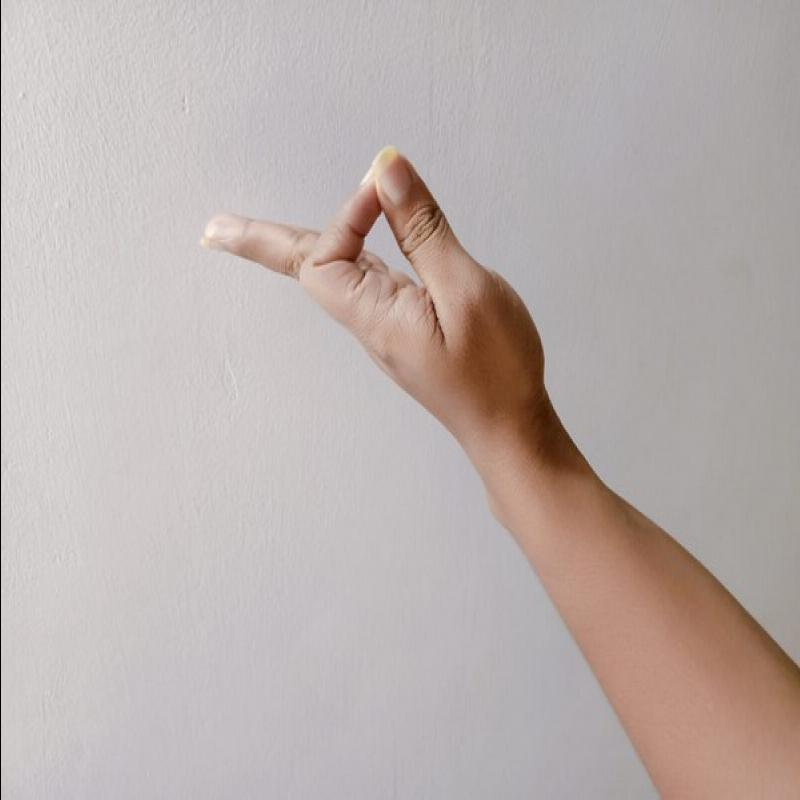Mudraakhyam: (189, 137, 564, 424)
